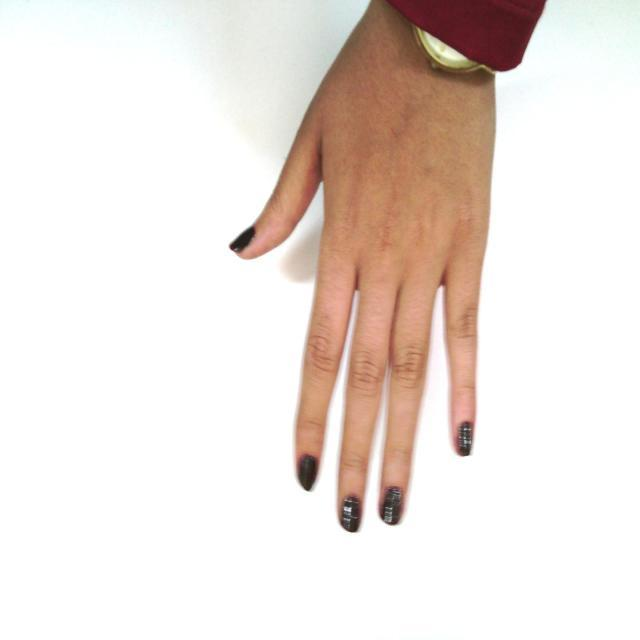Fingernail: (382, 488, 402, 525), (341, 496, 360, 532), (299, 456, 317, 490), (230, 228, 253, 251), (458, 423, 472, 456)
